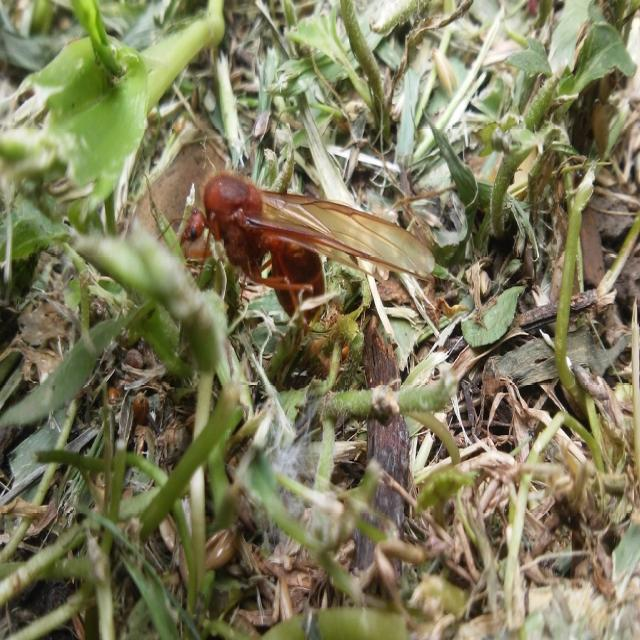Alive-Male-Alate: (156, 168, 435, 372)
